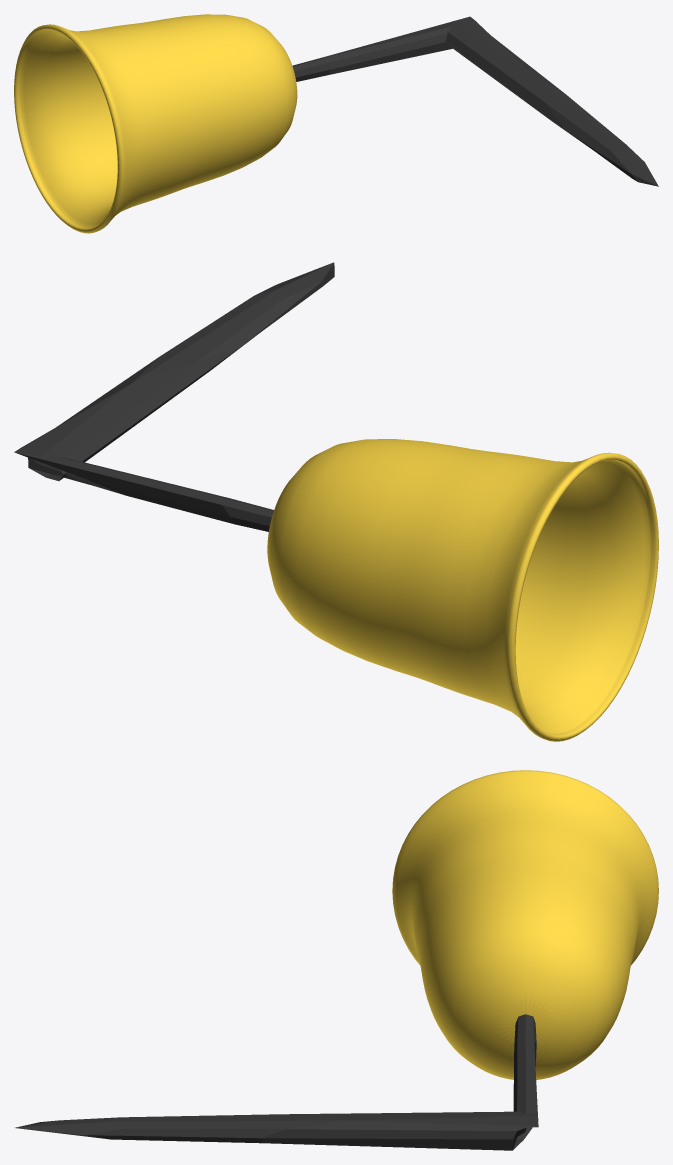
File: bell.fbx
The picture shows the model from 3 angles, top to bottom: view 1: azimuth 30°, elevation 25°; view 2: azimuth 150°, elevation 25°; view 3: azimuth 270°, elevation 25°; orthographic projection. The views are drawn at different scales.
Visible parts, largest first — view 1: Circle.001; view 2: Circle.001; view 3: Circle.001.
Boxes of the visible parts, <box> form: Circle.001: <box>14,14,658,233</box>; Circle.001: <box>14,262,658,741</box>; Circle.001: <box>15,770,658,1150</box>.
Size of the model in its own units: 75.31 by 34.07 by 82.4.
